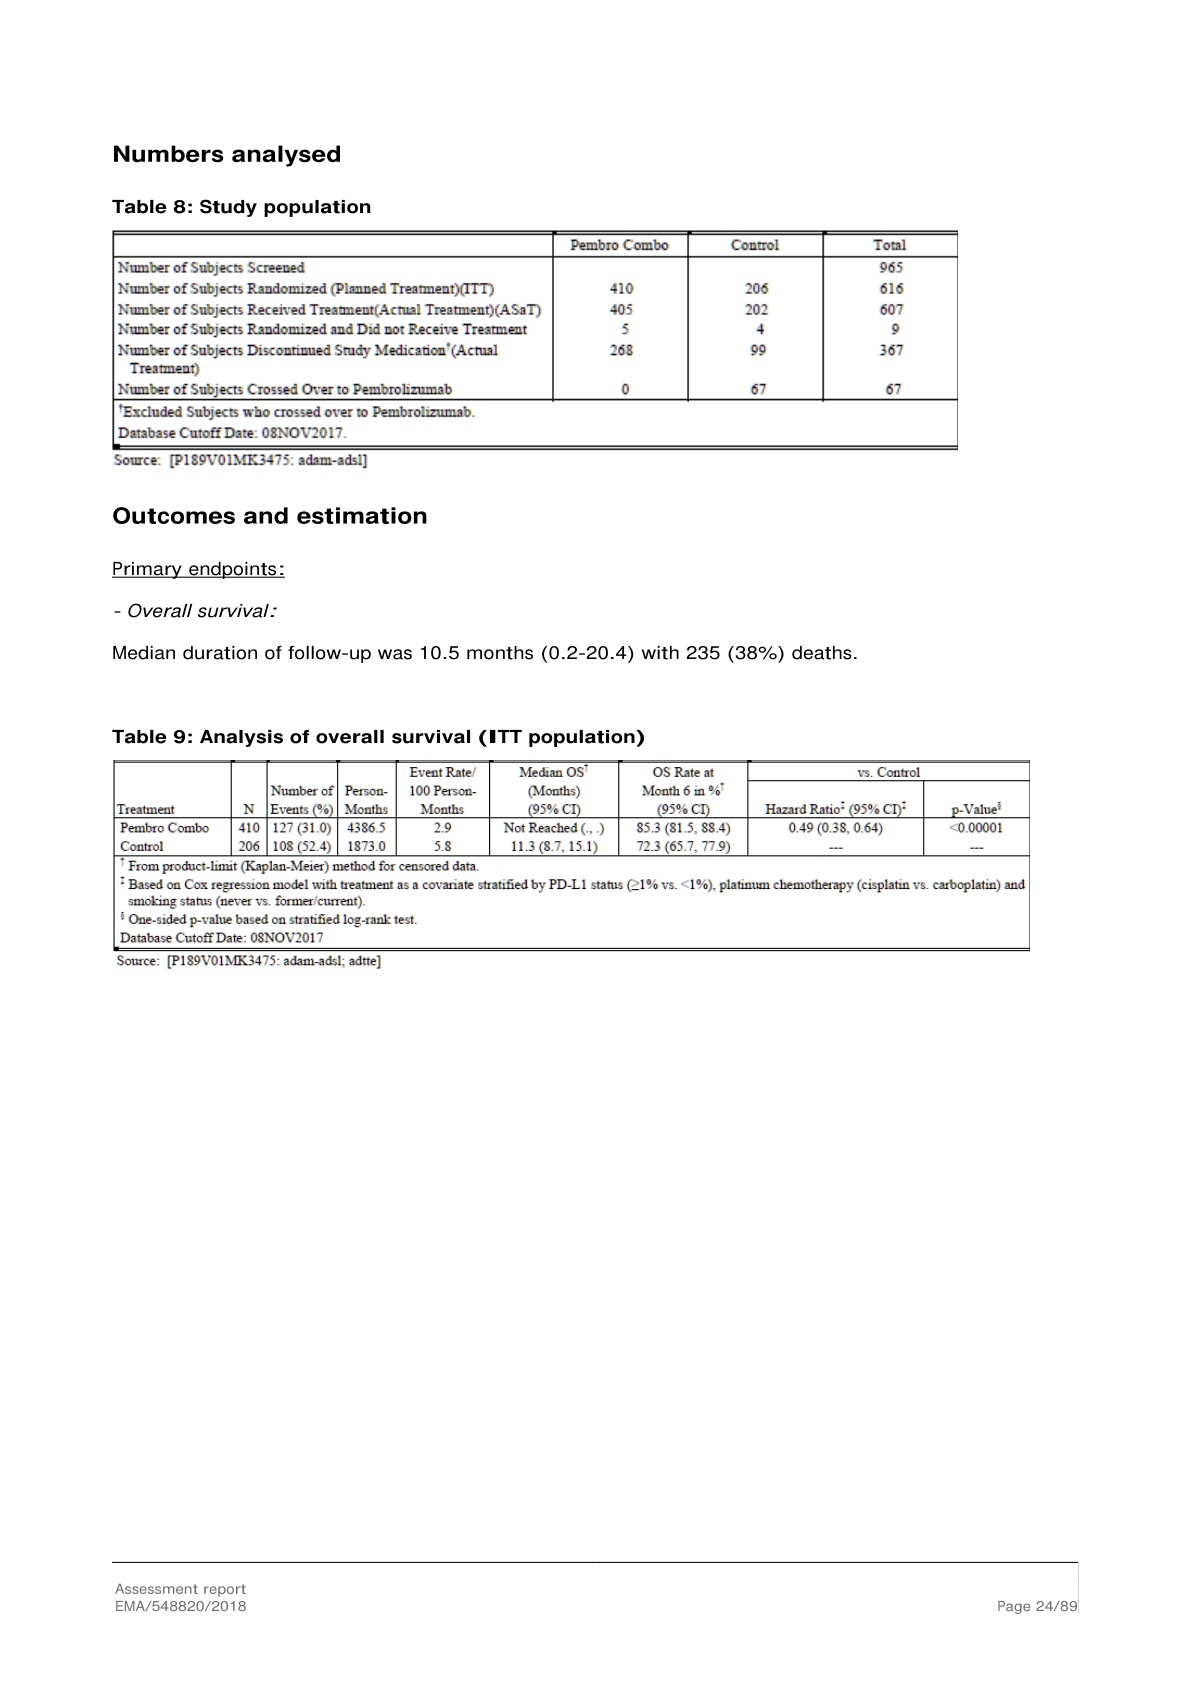merged_cells: (112, 229, 959, 449), (113, 759, 1032, 950)
